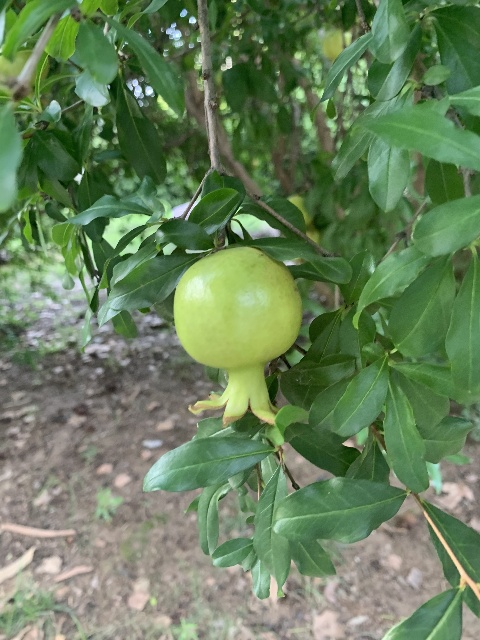mid-growth: (173, 245, 303, 427)
